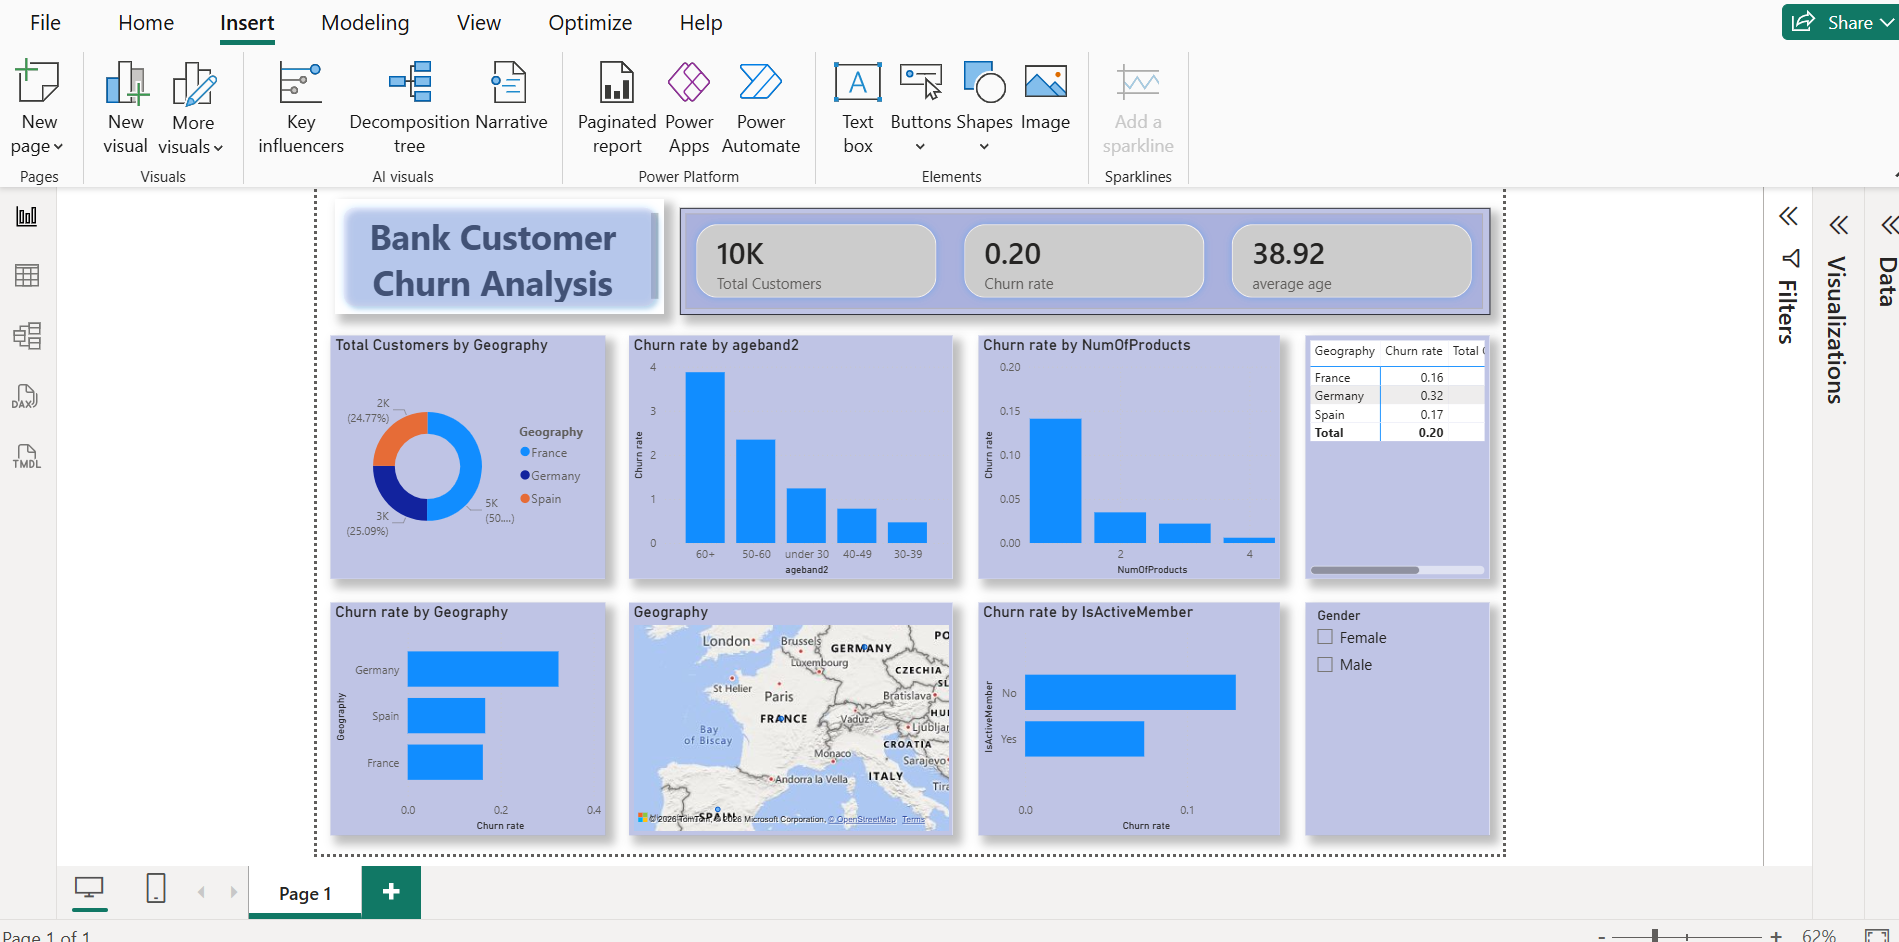

What the dashboard file says about the page in this screenshot:
{"tool":"powerbi","page":{"name":"Page 1","canvas":[1280,720],"ordinal":0},"visuals":[{"type":"cardVisual","fields":{"Data":["Customer_Info.Total Customers","Bank_Churn.Churn rate","Customer_Info.average age"]},"box":[391.2,22.7,875,115.3],"z":0},{"type":"barChart","fields":{"Category":["Bank_Churn.Geography"],"Y":["Bank_Churn.Churn rate"]},"box":[15.1,447.9,296.7,251.3],"z":1000},{"type":"donutChart","fields":{"Category":["Bank_Churn.Geography"],"Y":["Customer_Info.Total Customers"]},"box":[15.1,160.6,296.7,262.7],"z":2000},{"type":"barChart","fields":{"Category":["Account_Info.IsActiveMember"],"Y":["Bank_Churn.Churn rate"]},"box":[714.3,447.9,325,251.3],"z":3000},{"type":"lineClusteredColumnComboChart","fields":{"Category":["Customer_Info.ageband2"],"Y":["Bank_Churn.Churn rate"]},"box":[336.4,160.6,349.6,262.7],"z":4000},{"type":"clusteredColumnChart","fields":{"Category":["Account_Info.NumOfProducts"],"Y":["Bank_Churn.Churn rate"]},"box":[714.3,160.6,325,262.7],"z":5000},{"type":"map","fields":{"Category":["Bank_Churn.Geography"]},"box":[336.4,447.9,349.6,251.3],"z":6000},{"type":"pivotTable","fields":{"Rows":["Bank_Churn.Geography"],"Values":["Bank_Churn.Churn rate","Customer_Info.Total Customers"]},"box":[1067.7,160.6,198.4,262.7],"z":7000},{"type":"slicer","fields":{"Values":["Bank_Churn.Gender"]},"box":[1067.7,447.9,198.4,251.3],"z":8000},{"type":"textbox","box":[15.1,22.7,359.1,105.8],"z":8001},{"type":"shape","box":[18.9,13.2,355.3,124.7],"z":8002}]}

Visuals, with their boxes on the page's 1280x720 design canvas (x1, y1, x2, y2). These are canvas units, not pixel positions in the 1899x942 screenshot, which may show the page scaled, cropped or inside an application window:
cardVisual - Customer_Info.Total Customers x Bank_Churn.Churn rate: bbox=(391, 23, 1266, 138)
barChart - Bank_Churn.Geography x Bank_Churn.Churn rate: bbox=(15, 448, 312, 699)
donutChart - Bank_Churn.Geography x Customer_Info.Total Customers: bbox=(15, 161, 312, 423)
barChart - Account_Info.IsActiveMember x Bank_Churn.Churn rate: bbox=(714, 448, 1039, 699)
lineClusteredColumnComboChart - Customer_Info.ageband2 x Bank_Churn.Churn rate: bbox=(336, 161, 686, 423)
clusteredColumnChart - Account_Info.NumOfProducts x Bank_Churn.Churn rate: bbox=(714, 161, 1039, 423)
map - Bank_Churn.Geography: bbox=(336, 448, 686, 699)
pivotTable - Bank_Churn.Geography x Bank_Churn.Churn rate: bbox=(1068, 161, 1266, 423)
slicer - Bank_Churn.Gender: bbox=(1068, 448, 1266, 699)
textbox: bbox=(15, 23, 374, 128)
shape: bbox=(19, 13, 374, 138)
